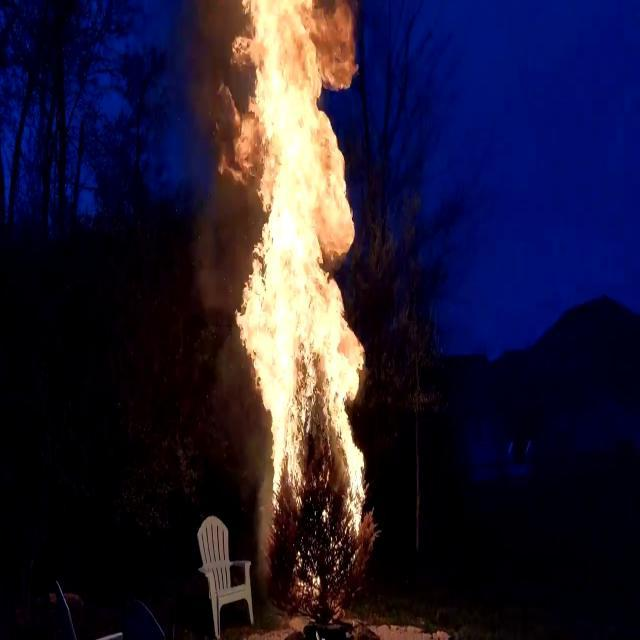Fire: (196, 0, 378, 537)
